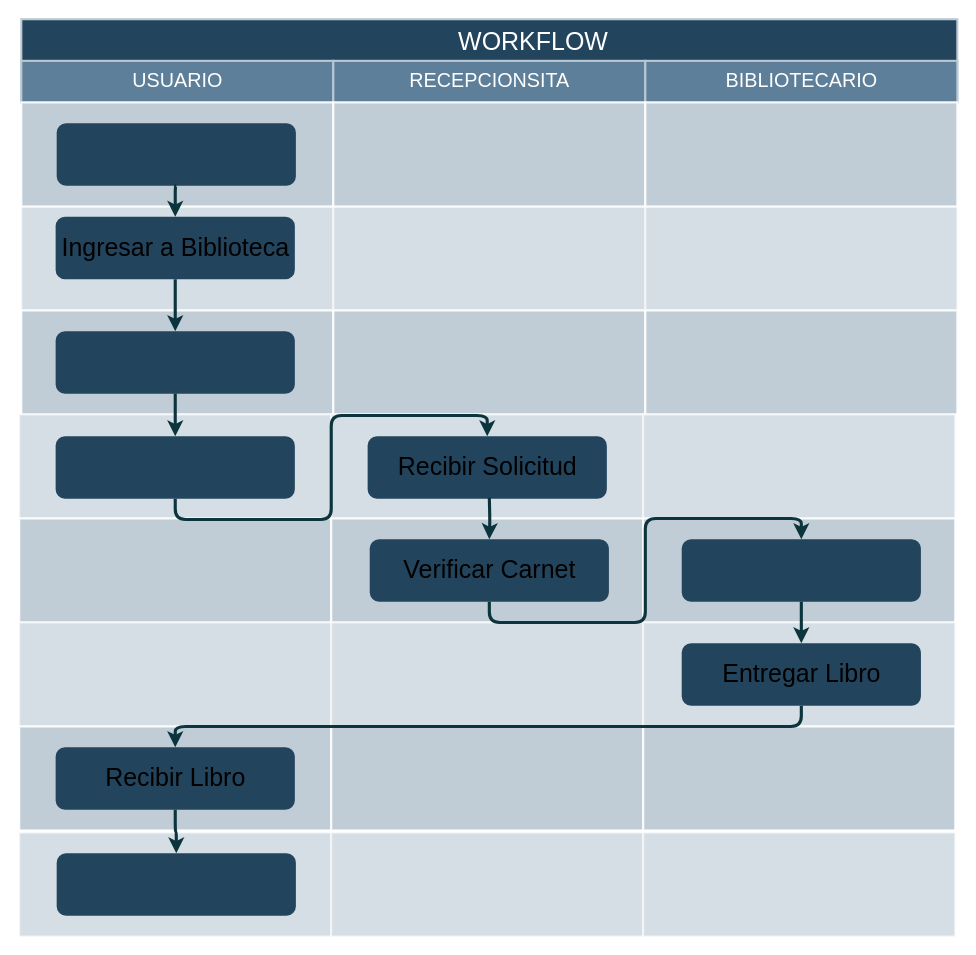
Some shapes in this 976 by 955 pixel diagram are drawn without their labels. Each missing label, with the centre of its shape:
Buscar en Estanteria: the point at 174,362
FIN: the point at 175,884
INICIO: the point at 175,154
Registrar Prestamo: the point at 800,570
Seleccionar Libro: the point at 174,467
